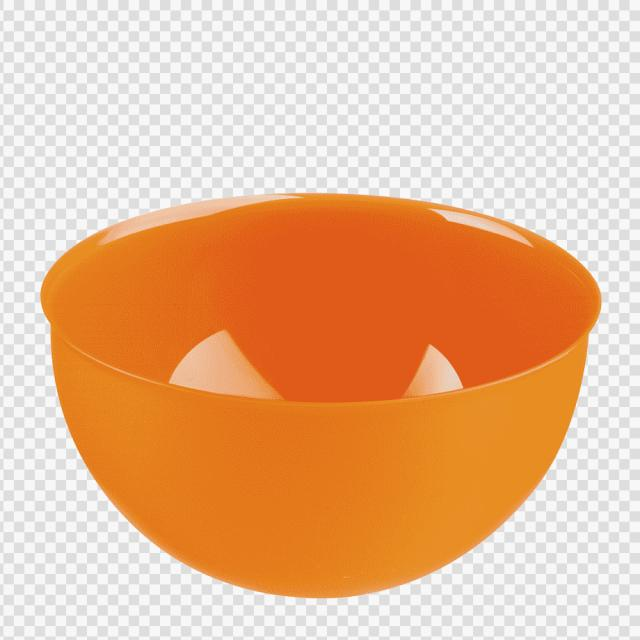Mangkok: (33, 170, 607, 609)
